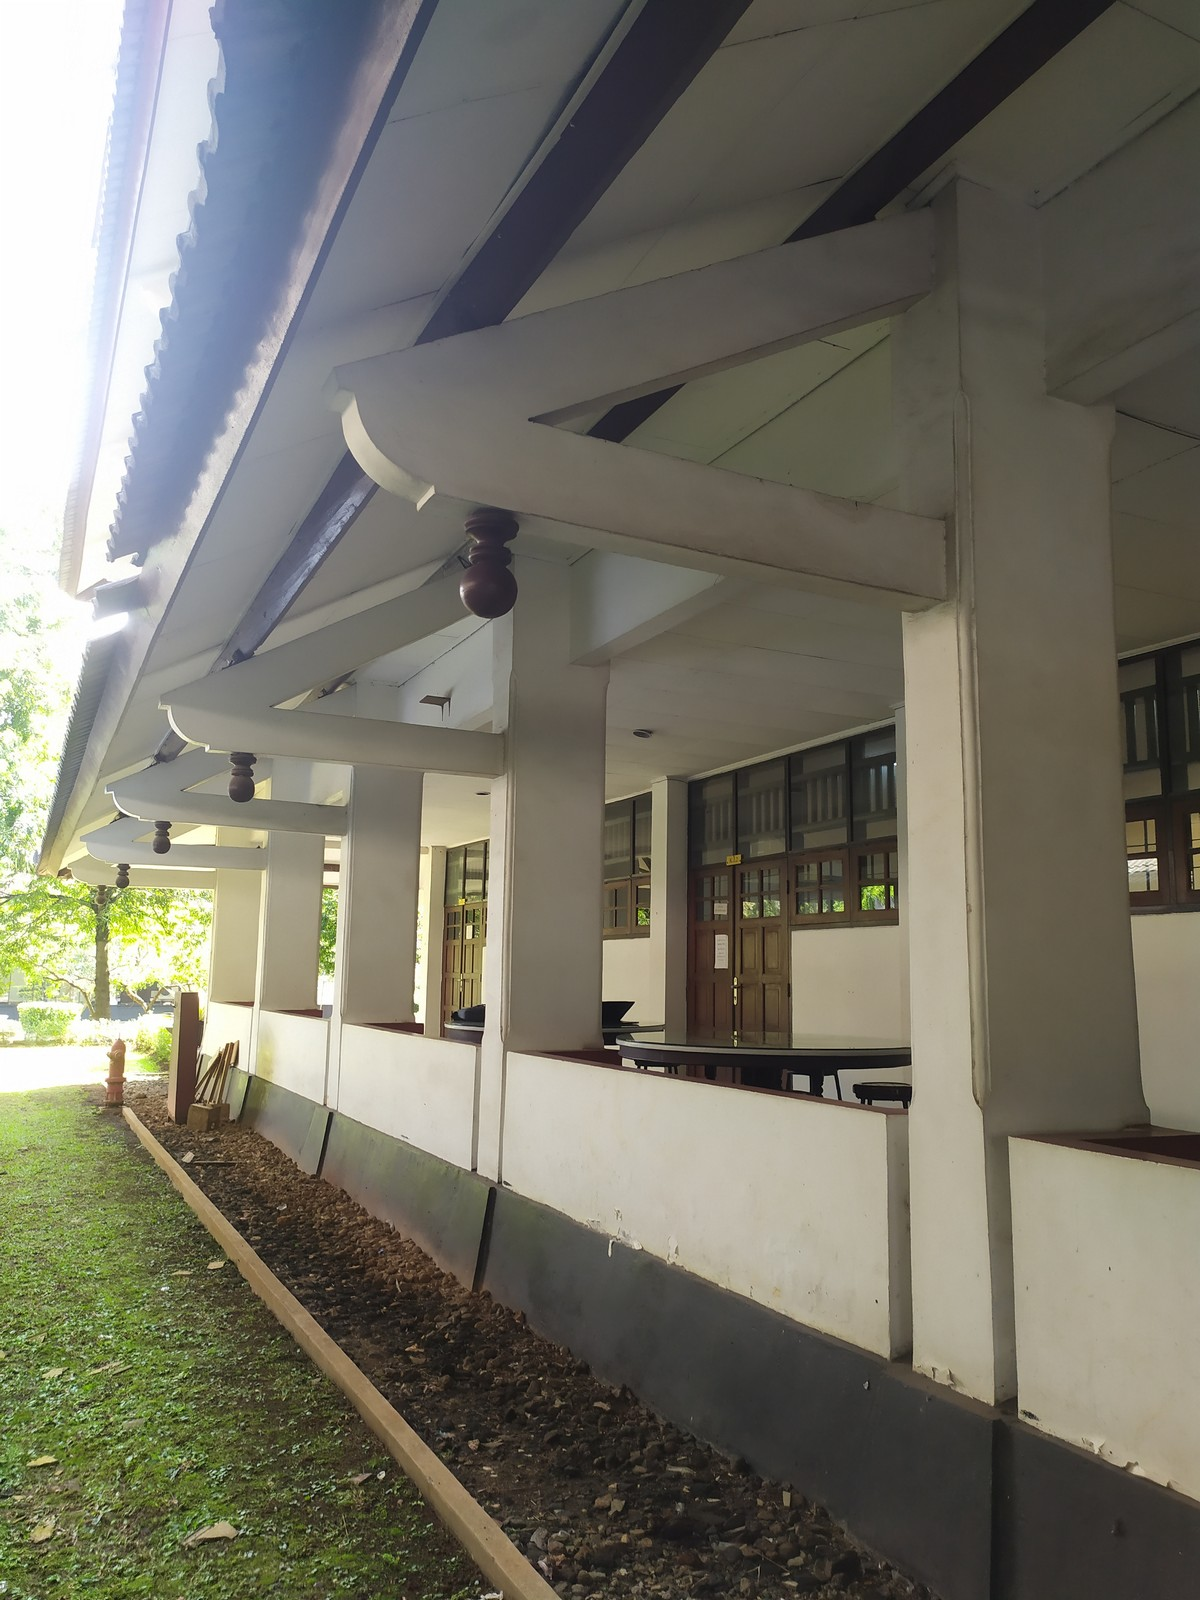concrete beam: (534, 432, 971, 624), (263, 716, 518, 786)
concrete column: (889, 614, 1148, 1174), (479, 782, 616, 1077), (332, 837, 425, 1044), (251, 872, 325, 1029)
